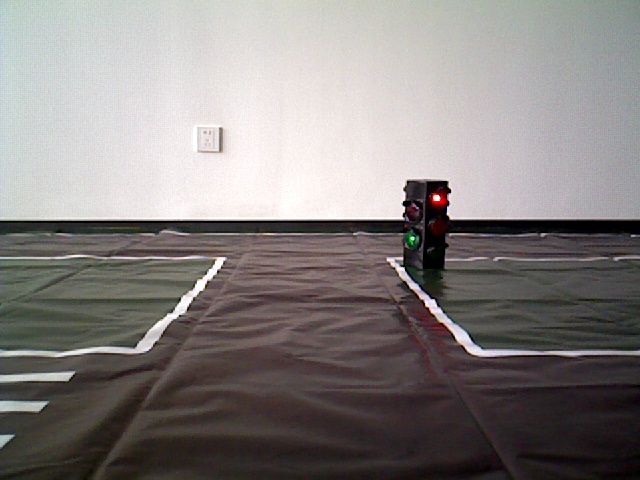red: (403, 185, 447, 282)
